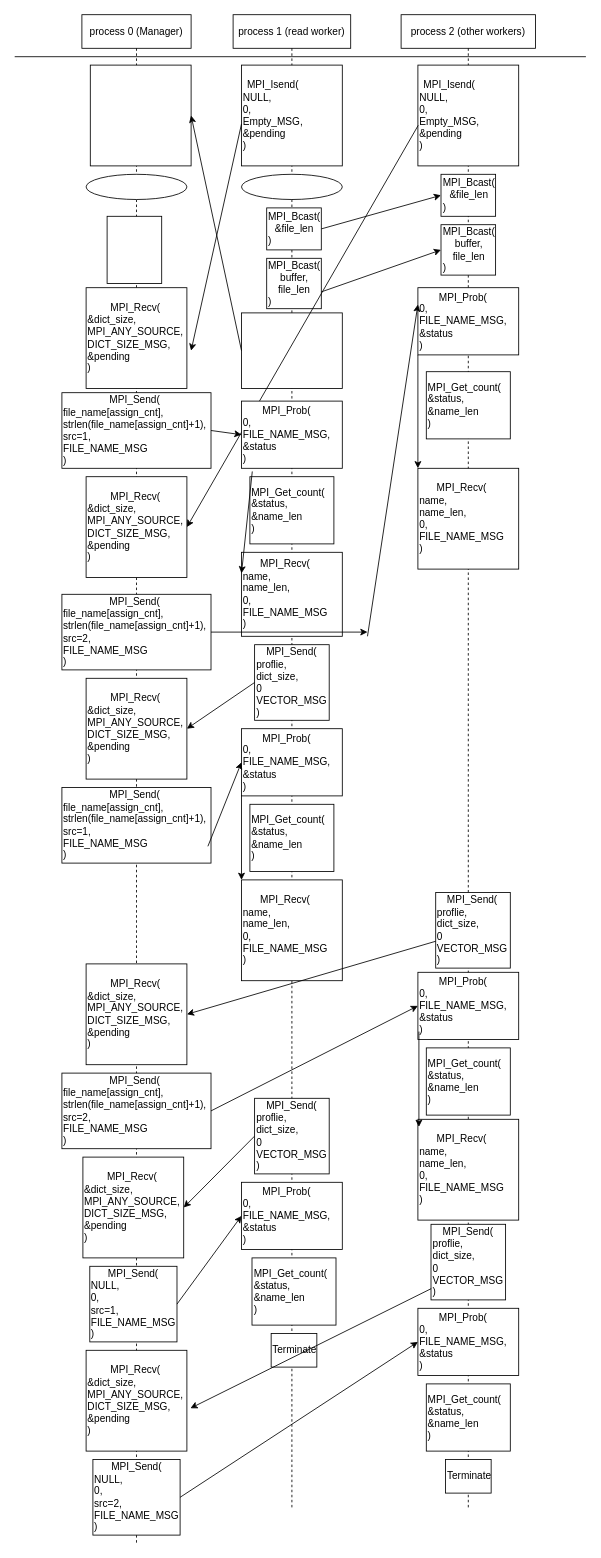
Image size: 601x1558. Some labels were removed from this diagram. The shapes that lost their labels are listed below. From the top down, each one's centre as x and y in pixels, then its label:
At pixel 140 115: "MPI_Irecv( &dict_size, MPI_ANY_SOURCE, DICT_SIZE_MSG, &pending )".
At pixel 136 186: "get_names".
At pixel 291 186: "read_dictionary".
At pixel 134 249: "MPI_Wait( &pending, &status )".
At pixel 291 350: "MPI_Send( &dict_size 0, DICT_SIZE_MSG )".
